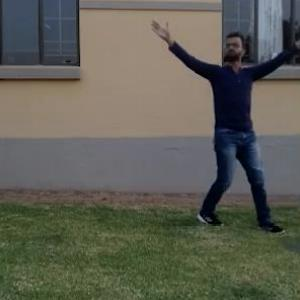takeoff: (154, 23, 295, 230)
